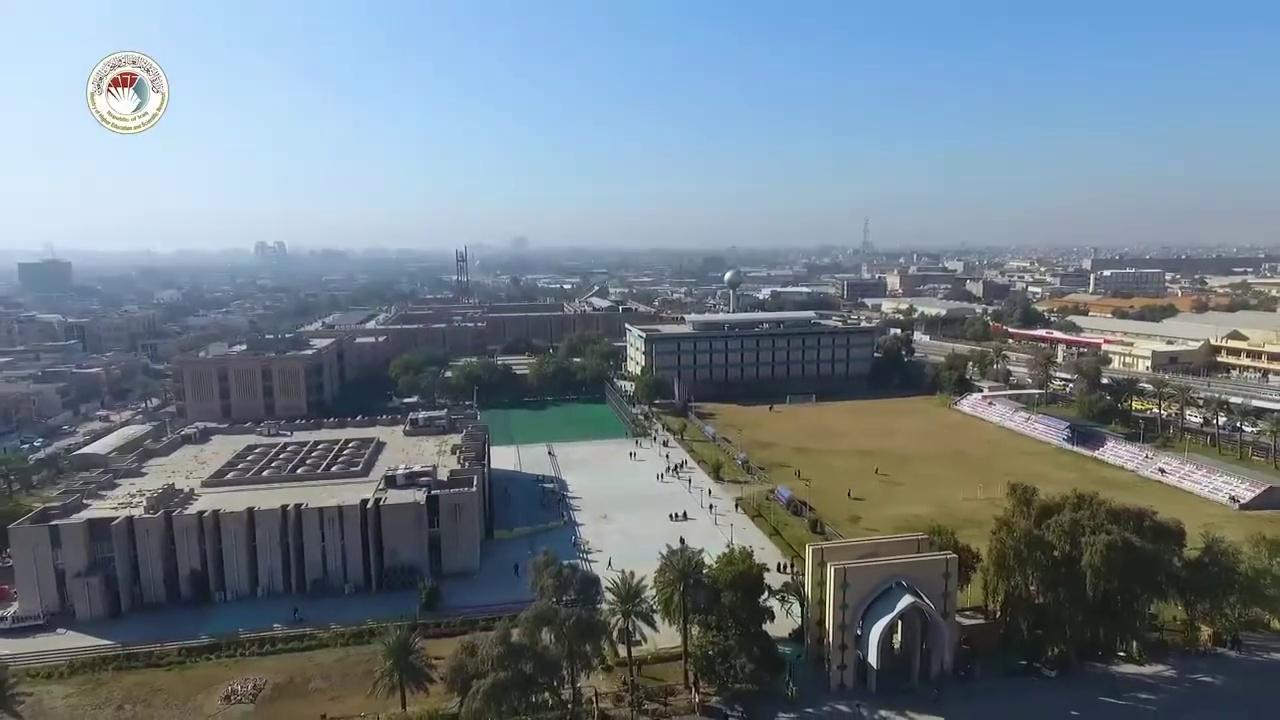car: (1121, 397, 1157, 414), (1220, 419, 1260, 434), (1184, 410, 1212, 426)
person: (676, 456, 688, 470), (664, 467, 679, 477), (512, 561, 519, 577), (292, 605, 299, 620), (705, 486, 713, 499), (663, 450, 671, 463), (631, 440, 643, 448), (672, 512, 681, 522), (666, 513, 675, 523), (680, 509, 689, 518), (625, 452, 635, 459), (709, 500, 714, 512), (655, 475, 663, 482)
tree: (365, 536, 806, 717), (927, 478, 1274, 674), (443, 548, 616, 718), (695, 542, 779, 694), (1177, 528, 1277, 652), (443, 614, 562, 718), (600, 567, 658, 715), (651, 541, 707, 691), (546, 608, 608, 718), (365, 625, 437, 711), (924, 520, 981, 608), (766, 567, 810, 661), (632, 366, 661, 441), (1222, 396, 1256, 459), (1026, 345, 1060, 405), (527, 547, 563, 603), (1200, 391, 1231, 453), (1168, 381, 1200, 440), (1072, 349, 1111, 396), (1146, 375, 1176, 434), (1109, 374, 1140, 426), (936, 347, 969, 394), (1257, 409, 1279, 468), (983, 342, 1009, 383), (965, 347, 992, 380), (416, 574, 440, 611)
